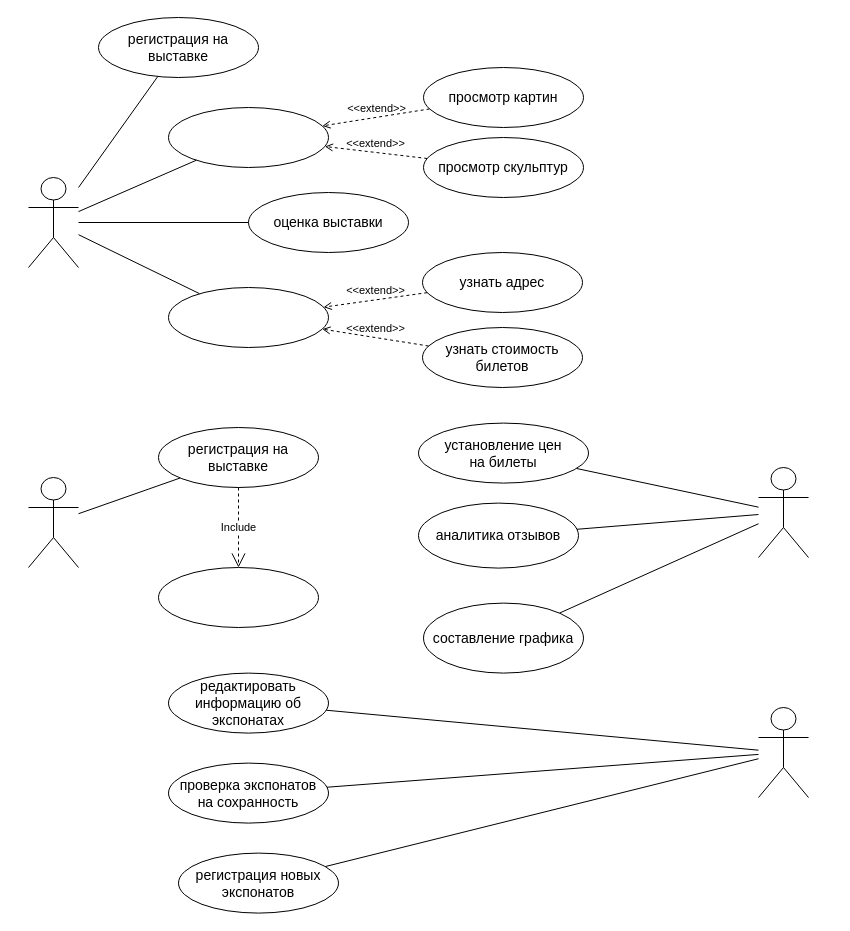
This 850x931 diagram has some shape labels left out. Here are the shapes that lost their labels. From the top down, the box of each, then its label:
(168, 106, 328, 168): просмотр экспонатов
(28, 176, 78, 268): посетитель
(168, 286, 328, 348): узнать сведения о выставке
(28, 476, 78, 568): автор
(758, 466, 808, 558): администратор
(158, 566, 318, 628): передача экспонатов
(758, 706, 808, 798): сотрудник выставки
